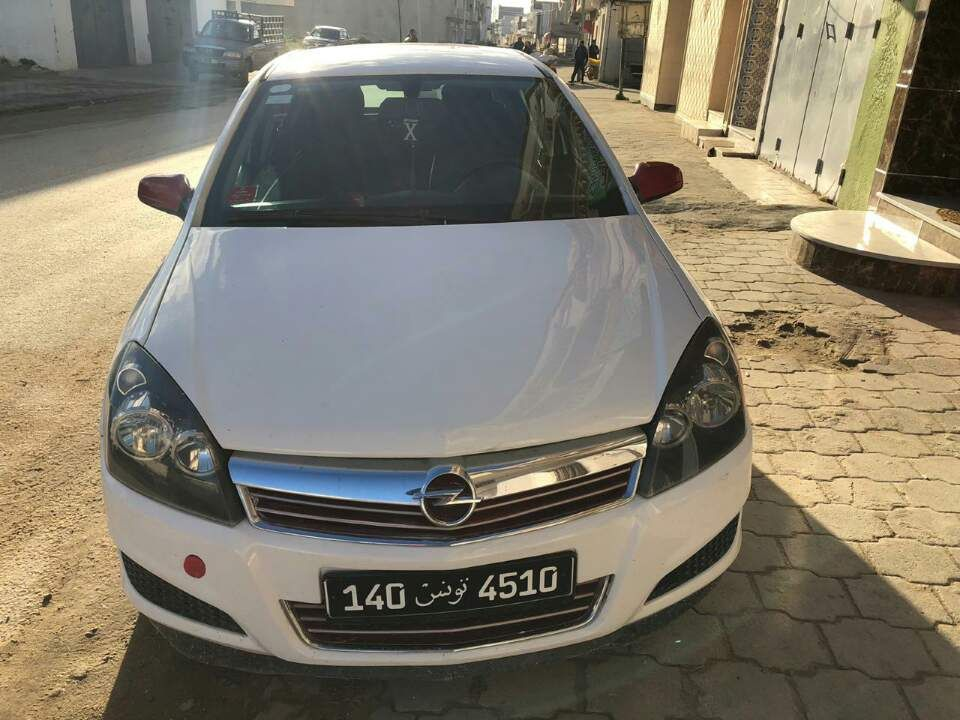LP: (319, 553, 583, 618)
